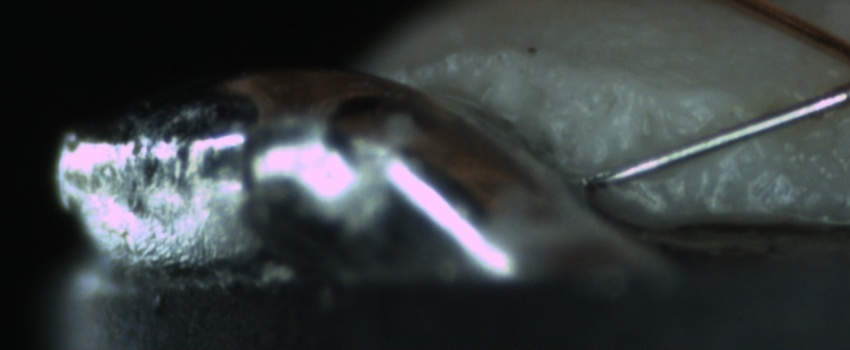DL: (627, 67, 849, 123)
TS: (586, 86, 849, 188)
